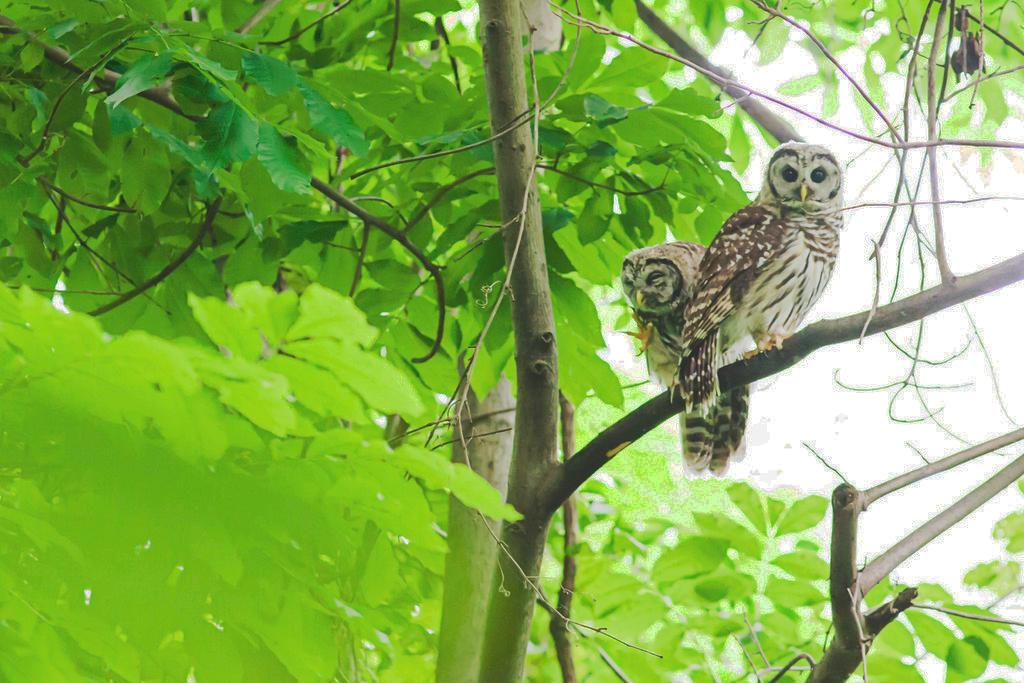Owl: (670, 139, 849, 418), (620, 229, 766, 480)
